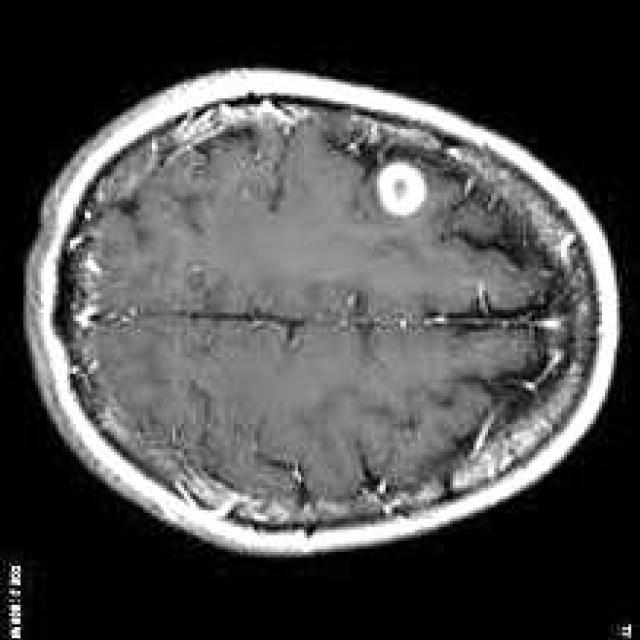tumor: (379, 159, 429, 216)
